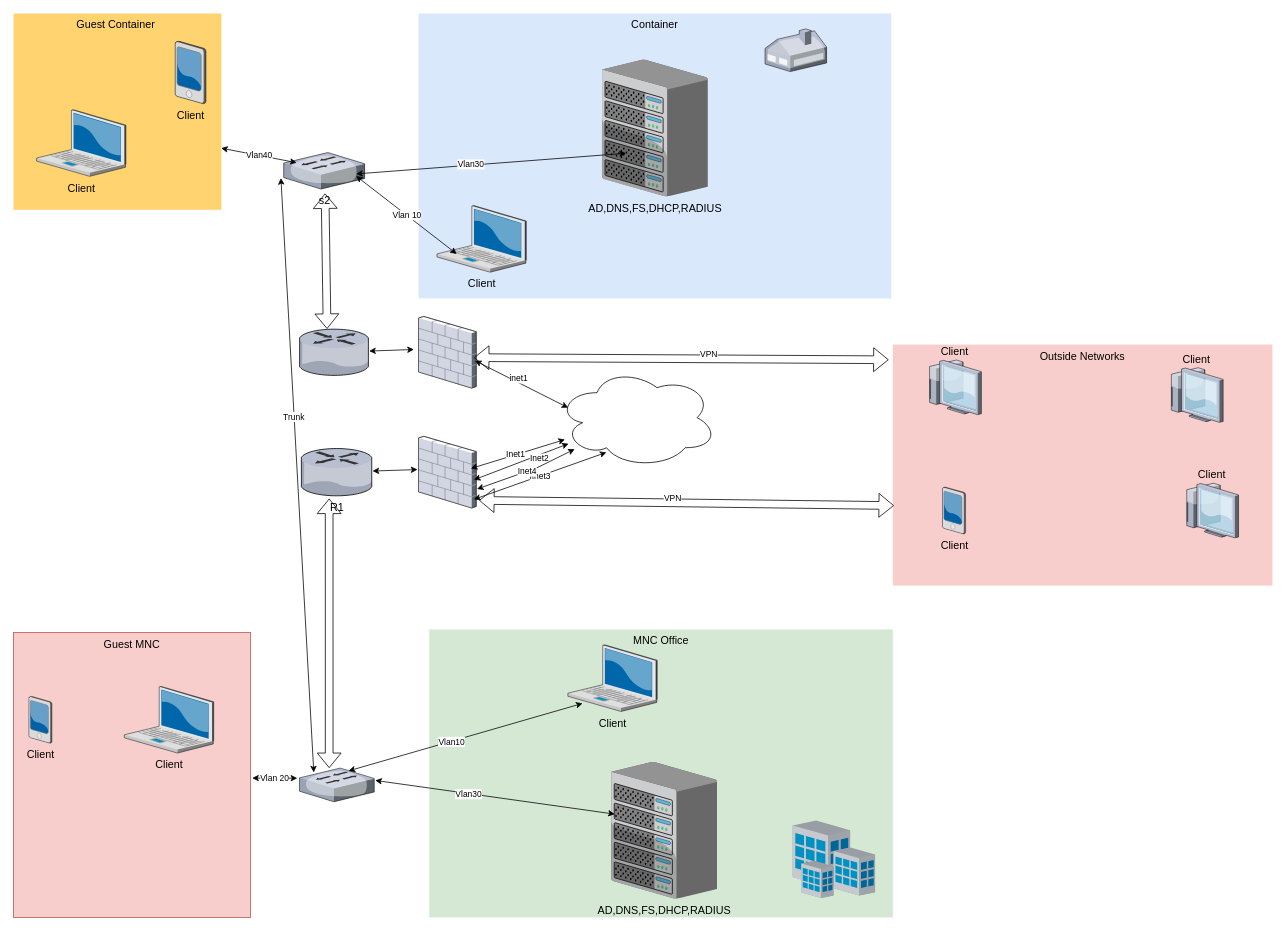
Image size: 1286x931. Some labels were removed from this diagram. Each missing label, with the centre of its shape:
"Internet" goes at pixel 636 417.
"R2" goes at pixel 334 352.
"s1" goes at pixel 336 784.
